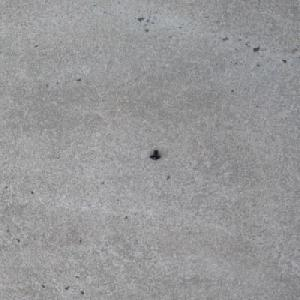BoltWasher: (148, 149, 161, 160)
